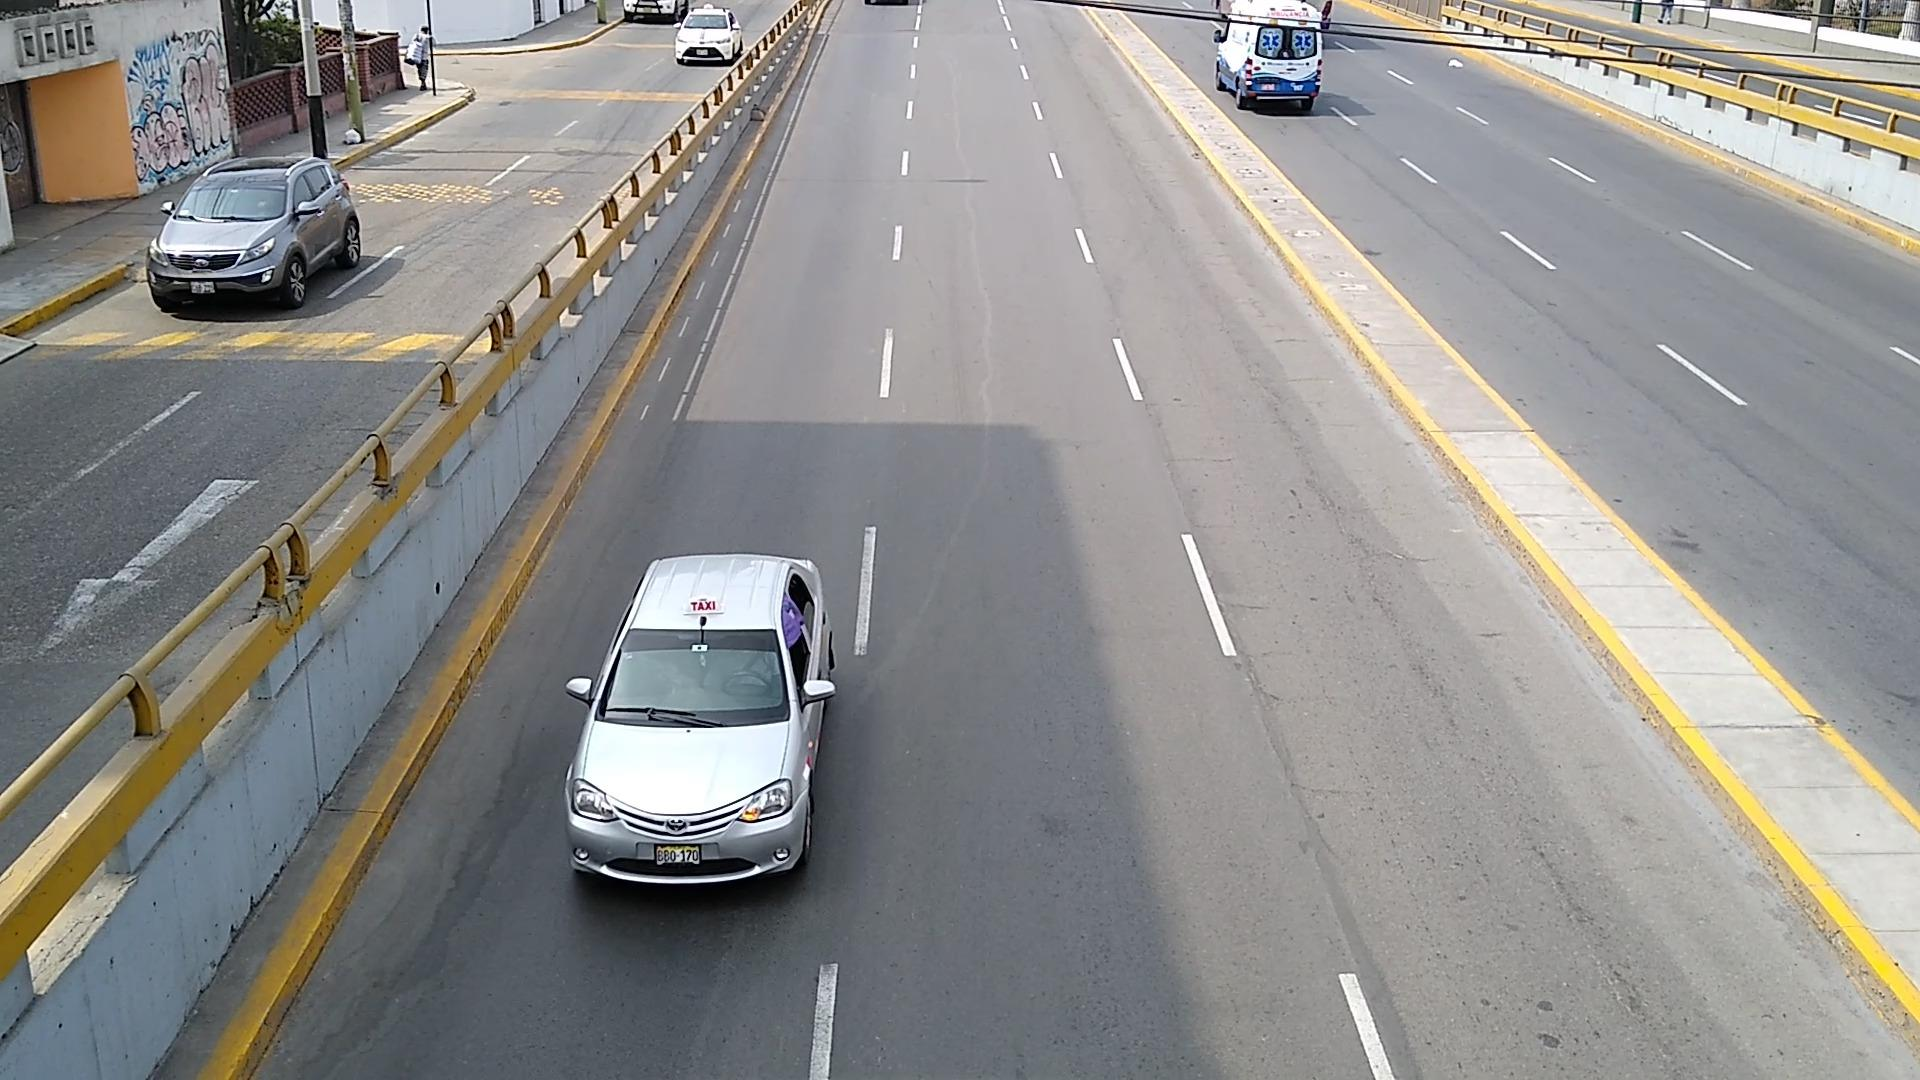car: (562, 555, 836, 889), (146, 154, 364, 311), (675, 8, 742, 64), (622, 0, 690, 22)
minivan: (1215, 0, 1324, 112)
person: (409, 26, 428, 84)
